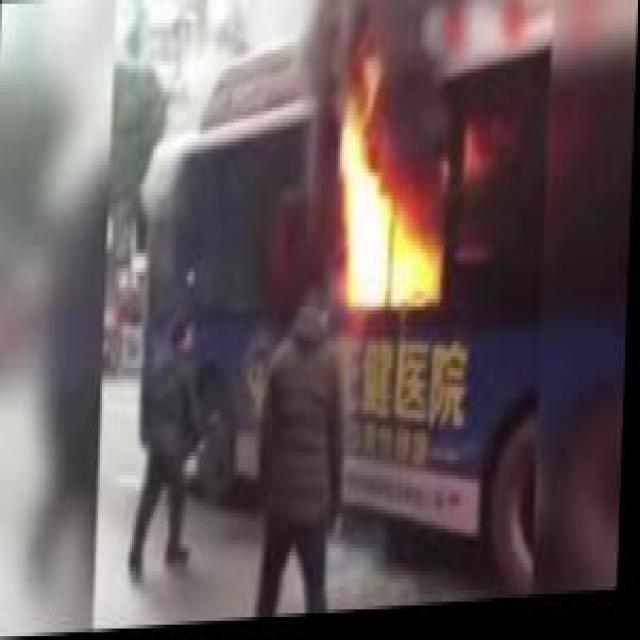Fire: (310, 50, 472, 338)
Smoke: (386, 0, 462, 169)
